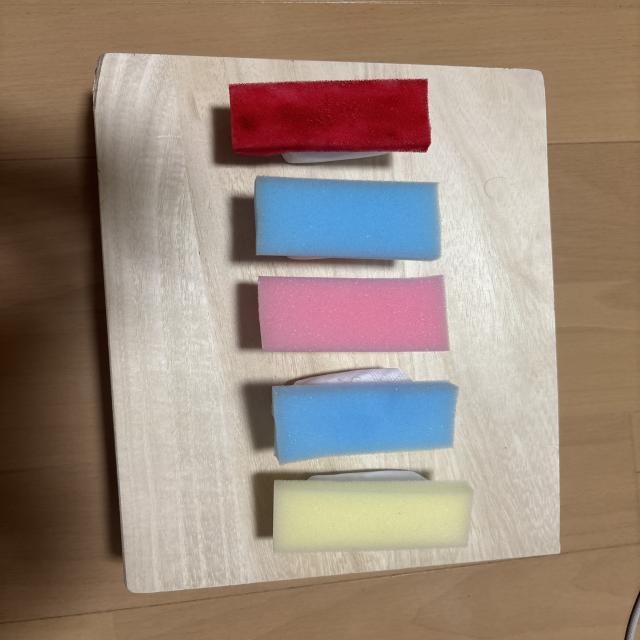ika: (272, 368, 458, 463), (255, 177, 440, 260)
maguro: (229, 79, 431, 163)
tai: (258, 275, 449, 352)
tamago: (273, 470, 473, 552)
